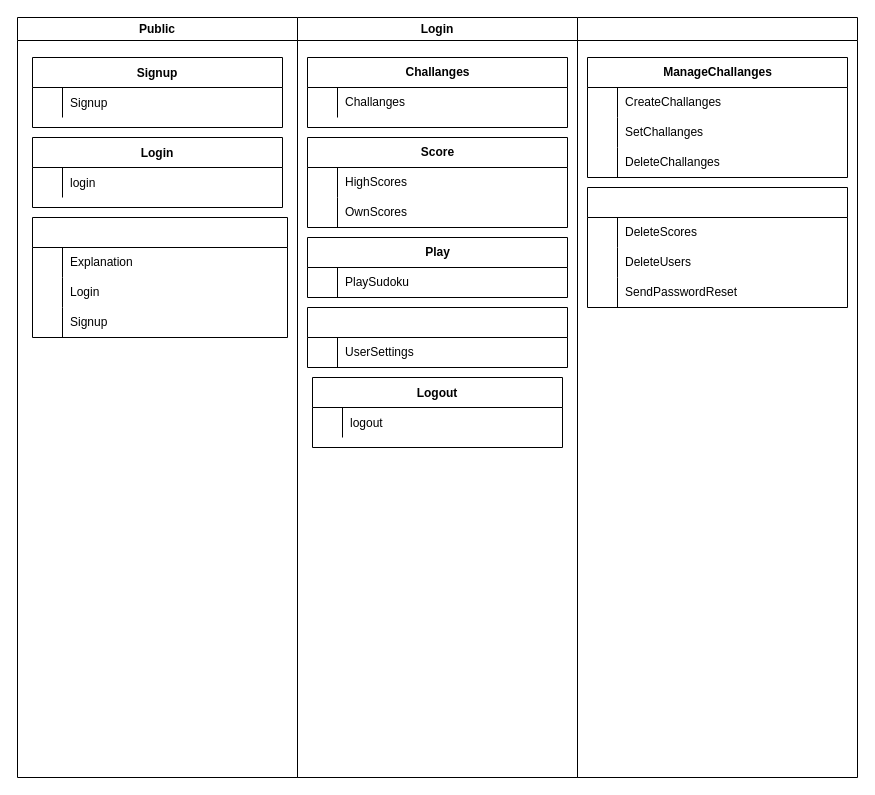
The diagram is 875 pixels wide and 795 high, and some of its shapes have lost their labels. Each missing label, with the box of its shape:
Admin: (576, 16, 858, 778)
LandingPage: (32, 216, 288, 338)
ManageUsers: (586, 186, 848, 308)
Profile: (306, 306, 568, 368)
